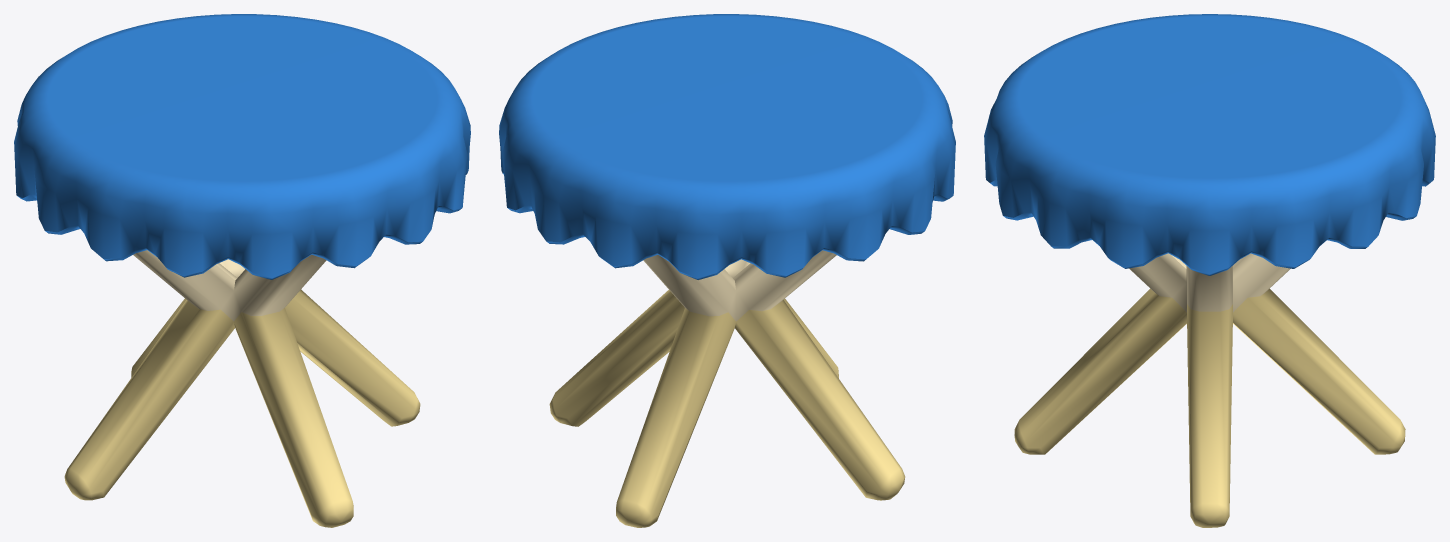
The model's file is mesa_redonda_toalha_campestre_azul_pacote.glb.
3 renders of one model, left to right at view 1: azimuth 30°, elevation 25°; view 2: azimuth 150°, elevation 25°; view 3: azimuth 270°, elevation 25°, orthographic.
Parts seen in each view (by area): view 1: mesa_redonda_toalha_campestre_azul_pacote; view 2: mesa_redonda_toalha_campestre_azul_pacote; view 3: mesa_redonda_toalha_campestre_azul_pacote.
Boxes of the visible parts, left/top/right/bottom form: mesa_redonda_toalha_campestre_azul_pacote: left=14, top=14, right=470, bottom=527; mesa_redonda_toalha_campestre_azul_pacote: left=499, top=14, right=955, bottom=527; mesa_redonda_toalha_campestre_azul_pacote: left=984, top=14, right=1435, bottom=527.
Size of the model in its own units: 0.8673 by 0.7498 by 0.8673.
Materials: 1 (1 with a texture image).
